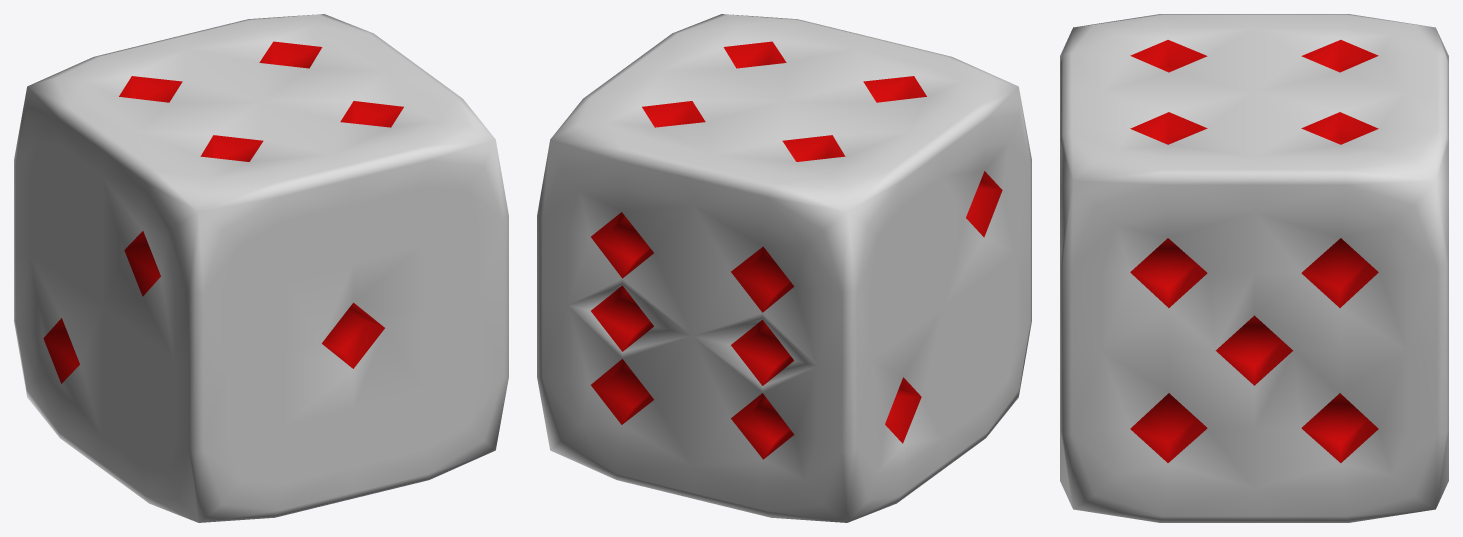
File: die.glb
The picture shows the model from 3 angles, left to right: view 1: azimuth 30°, elevation 25°; view 2: azimuth 150°, elevation 25°; view 3: azimuth 270°, elevation 25°; orthographic projection. The views are drawn at different scales.
Visible parts, largest first — view 1: Die; view 2: Die; view 3: Die.
Part boxes in pixels (box(x1,y1,x2,y2)): Die: box(14, 14, 508, 522); Die: box(537, 14, 1031, 522); Die: box(1060, 14, 1448, 522).
Bounding box in the file's own units: 2.07 × 2.07 × 2.07.
